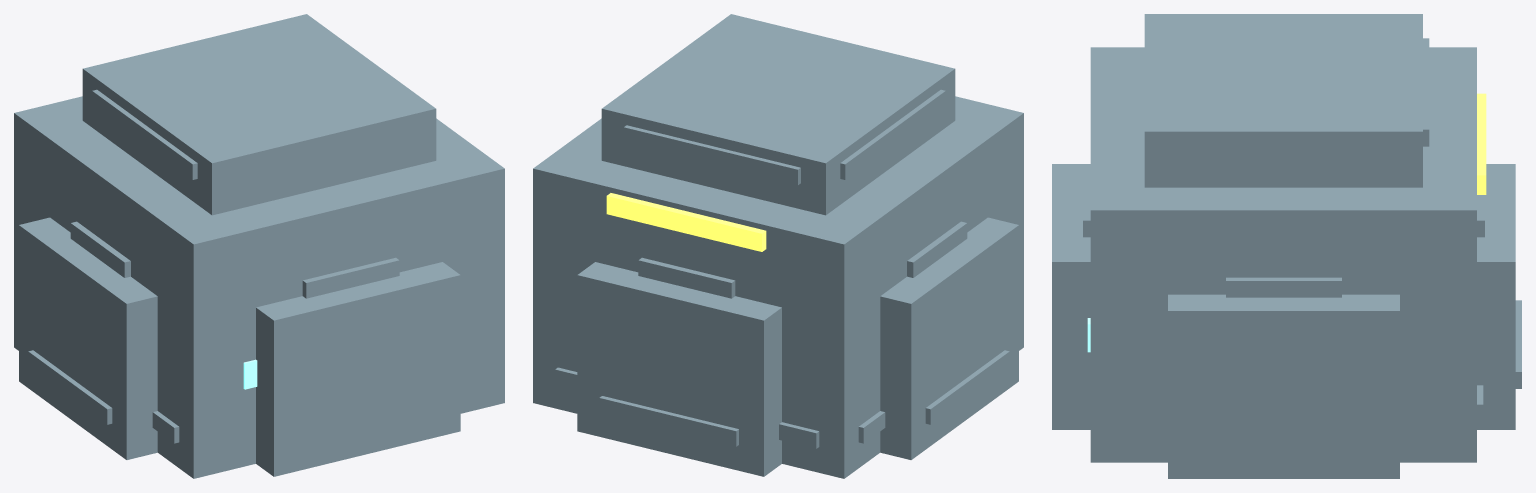
The model's file is agent_hub_lod0-CbGiyK4P.glb.
3 views of the same model, side by side, from view 1: azimuth 30°, elevation 25°; view 2: azimuth 150°, elevation 25°; view 3: azimuth 270°, elevation 25° (orthographic). The views are drawn at different scales.
Parts seen in each view (by area): view 1: body; view 2: body, sign; view 3: body, sign.
Boxes of the visible parts, <box> form: body: <box>14,14,504,478</box>; body: <box>533,14,1023,478</box>; sign: <box>606,193,766,251</box>; body: <box>1052,14,1521,478</box>; sign: <box>1477,93,1486,194</box>.
Bounding box in the file's own units: 0.608 × 0.44 × 0.608.
